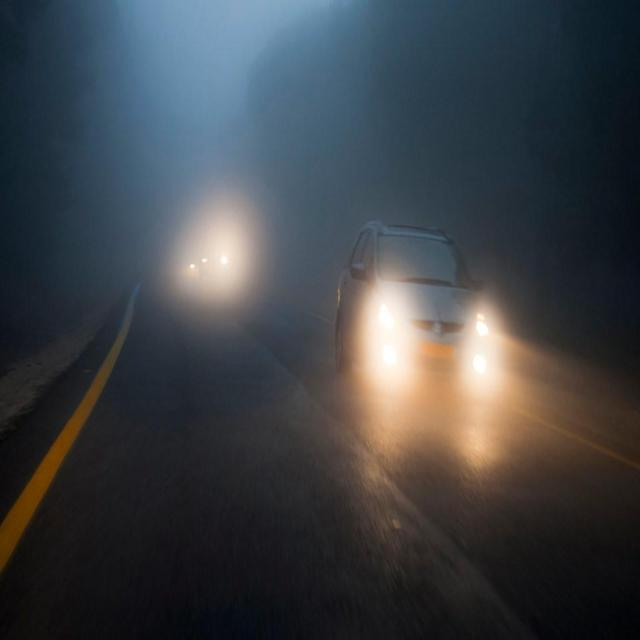Car: (334, 224, 498, 400)
